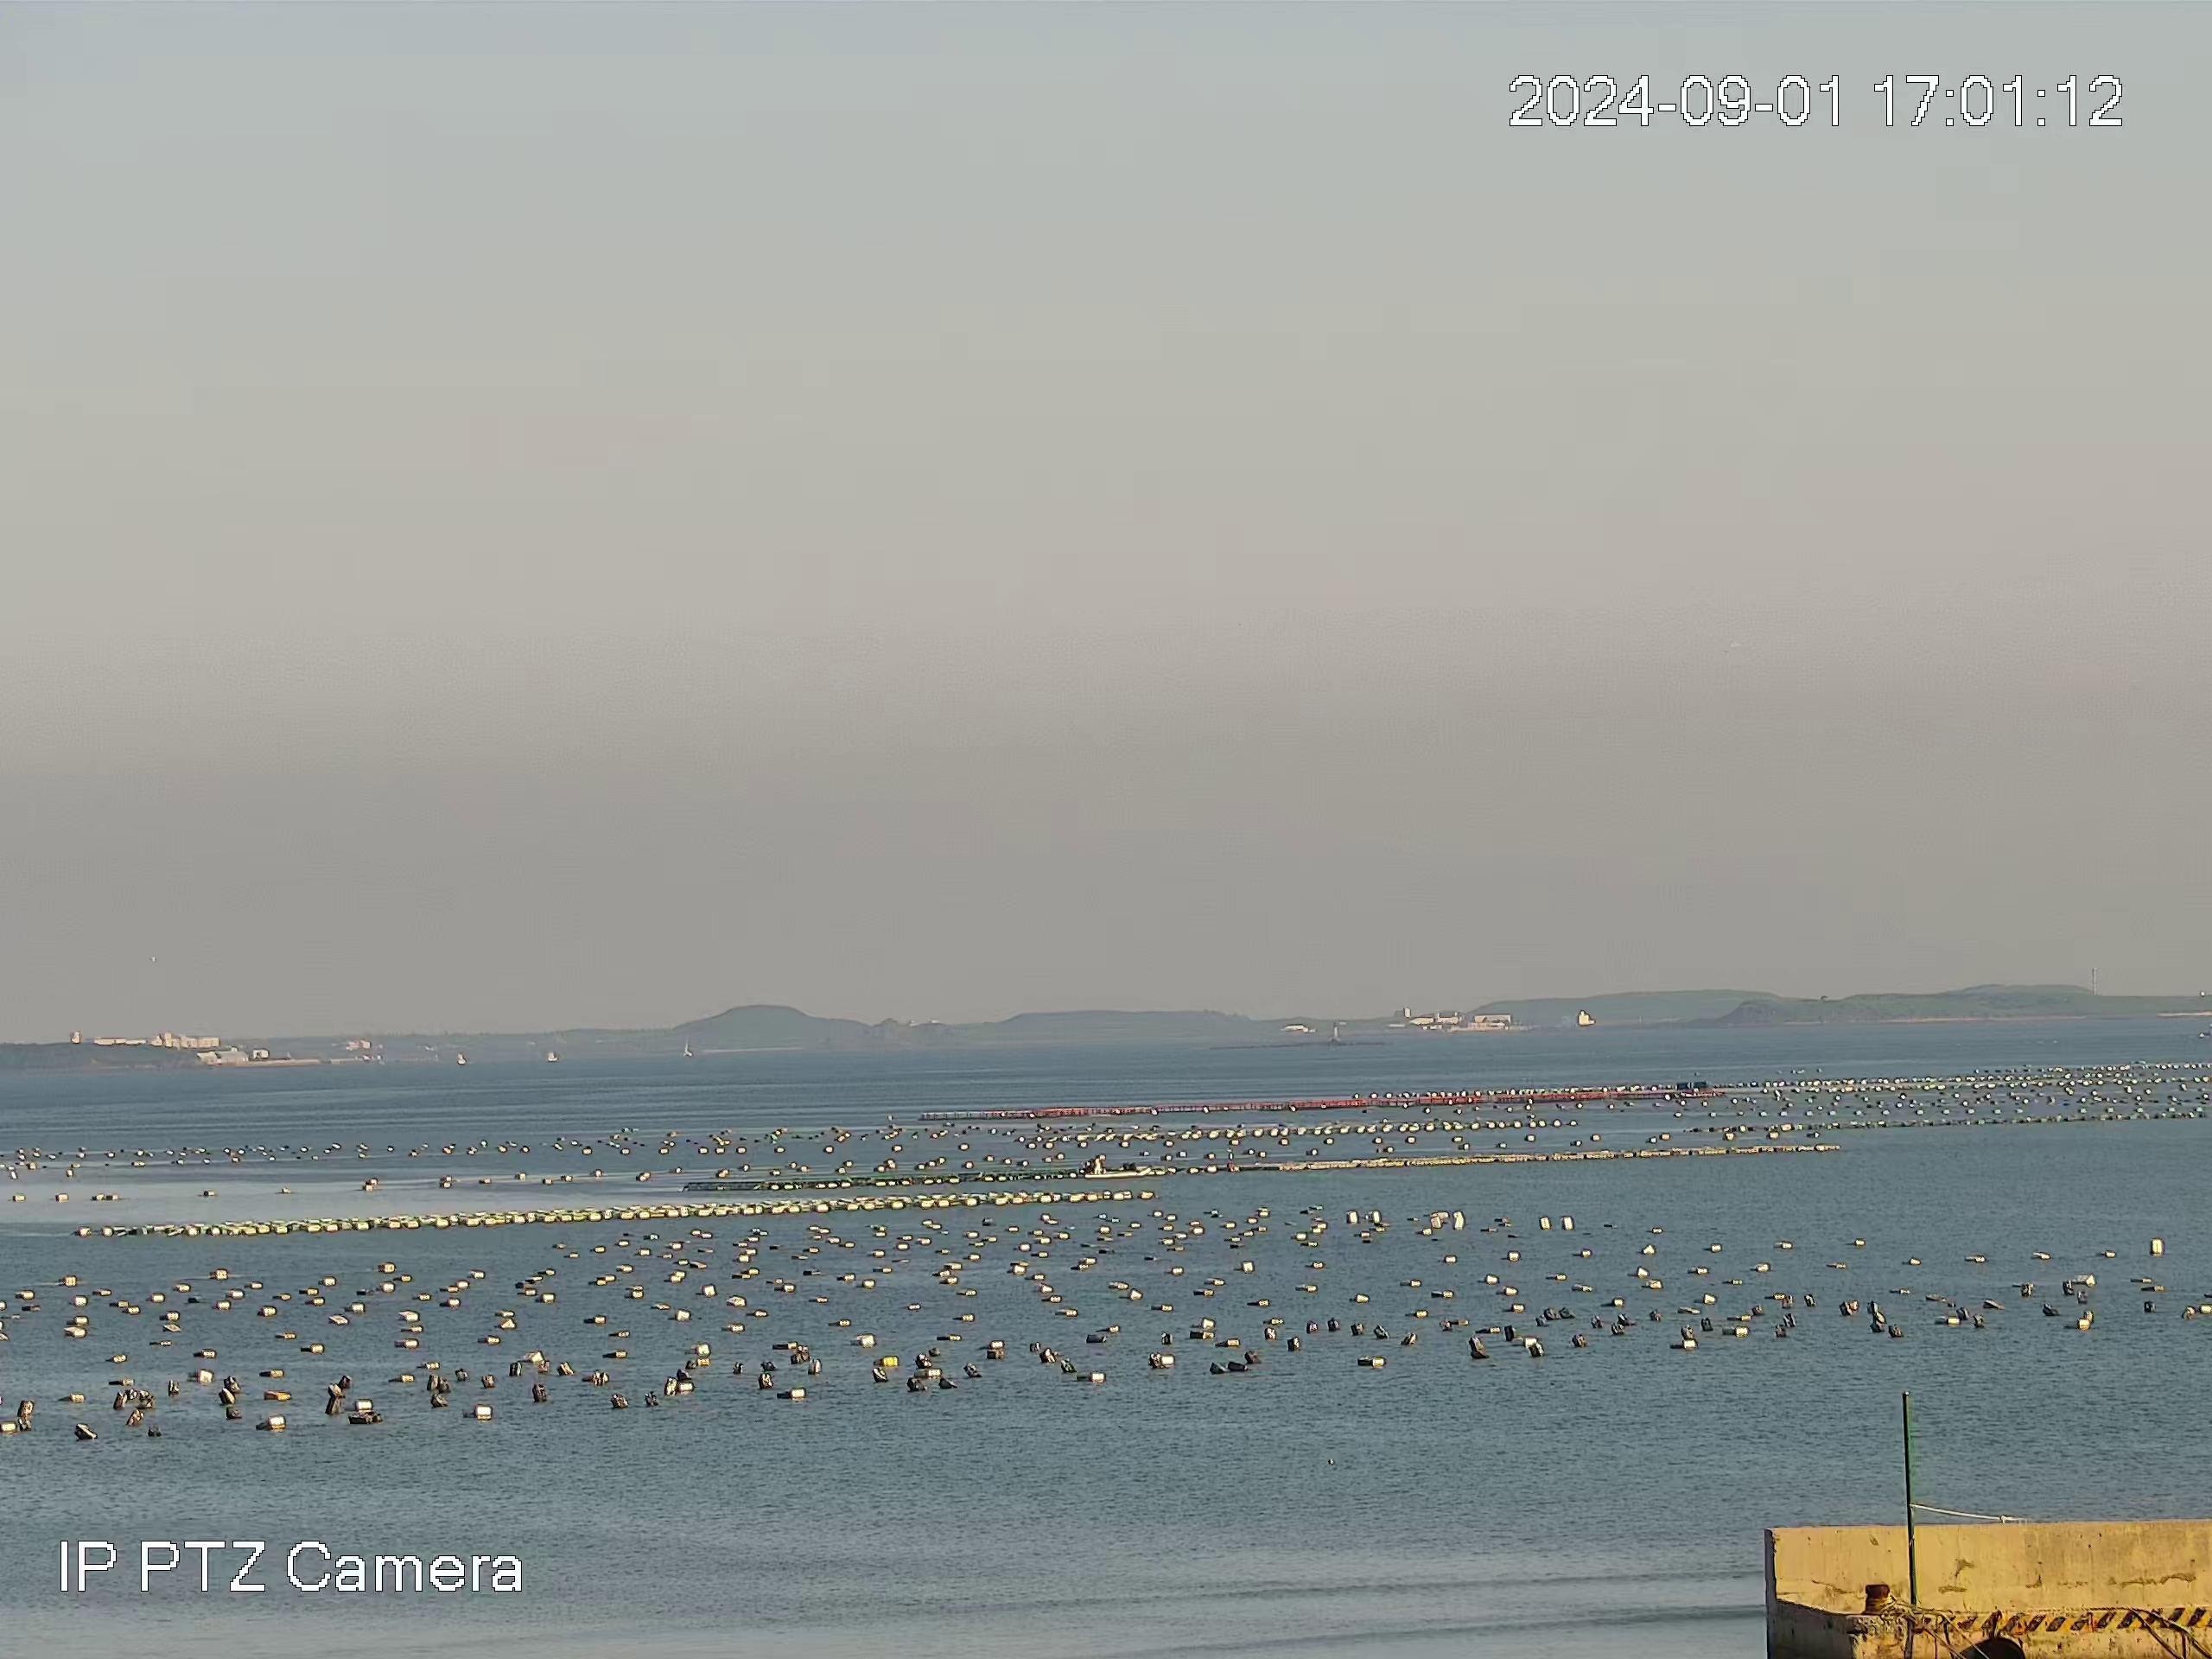boat: (1091, 1156, 1151, 1176)
